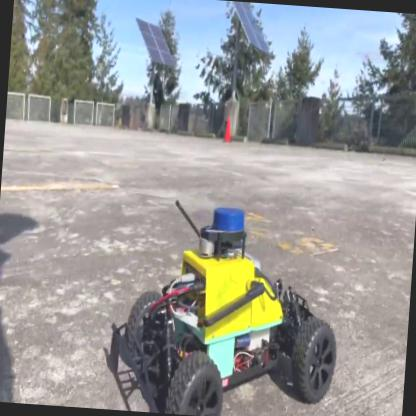cone: (222, 114, 234, 143)
mushr_car: (99, 191, 350, 415)
